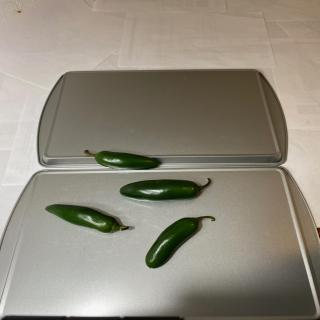Chilli: (145, 215, 215, 269), (44, 204, 129, 234)
Tomato: (119, 178, 212, 202), (84, 149, 160, 170)
